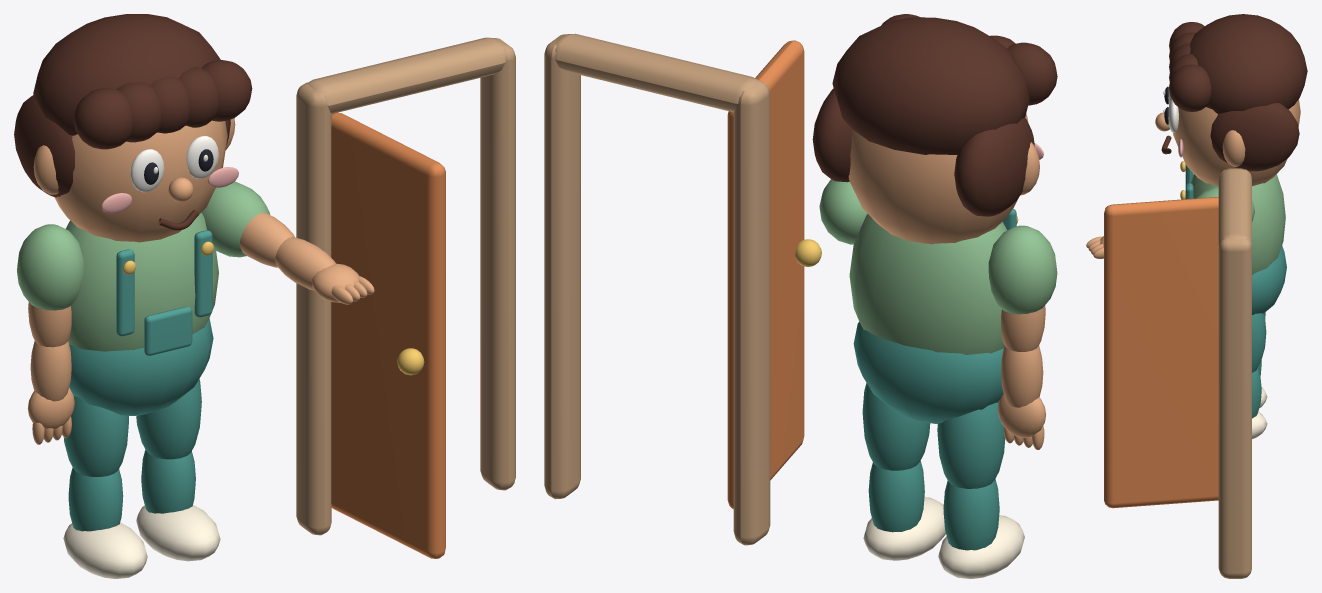
Rendered from daddy-close.glb.
3 views of the same model, side by side, from view 1: azimuth 30°, elevation 25°; view 2: azimuth 150°, elevation 25°; view 3: azimuth 270°, elevation 25° (orthographic). The views are drawn at different scales.
Parts seen in each view (by area): view 1: door, door frame.001, door frame, hair cap, soft shirt, clay head, overalls, door frame.002, shirt sleeve, trouser leg, little shoe.001, little shoe (+22 smaller); view 2: hair cap, door, door frame, door frame.001, soft shirt, clay head, overalls, door frame.002, bob hair, shirt sleeve, trouser leg, trouser leg.001 (+10 smaller); view 3: door, door frame.001, hair cap, bob hair.001, clay head, soft shirt, door frame.002, fringe.004, overalls, trouser leg.001, little ear.001, lower leg.001 (+3 smaller).
Boxes of the visible parts, x1,y1,x2,y2 form: door: (331, 112, 445, 558); door frame.001: (480, 38, 515, 490); door frame: (296, 82, 331, 535); hair cap: (33, 14, 220, 135); soft shirt: (66, 212, 218, 351); clay head: (54, 120, 227, 242); overalls: (69, 318, 213, 415); door frame.002: (306, 37, 505, 113); shirt sleeve: (17, 224, 83, 310); trouser leg: (63, 396, 128, 476); little shoe.001: (136, 505, 220, 561); little shoe: (63, 522, 147, 578); hair cap: (832, 17, 1029, 154); door: (727, 40, 804, 509); door frame: (733, 80, 770, 545); door frame.001: (544, 34, 580, 499); soft shirt: (849, 213, 1006, 354); clay head: (848, 113, 1028, 244); overalls: (853, 321, 1003, 423); door frame.002: (555, 33, 759, 112); bob hair: (954, 118, 1034, 216); shirt sleeve: (988, 225, 1057, 314); trouser leg: (937, 400, 1005, 488); trouser leg.001: (862, 383, 930, 470); door: (1104, 197, 1218, 508); door frame.001: (1218, 239, 1251, 578); hair cap: (1190, 14, 1307, 113); bob hair.001: (1210, 103, 1299, 171); clay head: (1173, 99, 1300, 186); soft shirt: (1191, 174, 1285, 274); door frame.002: (1218, 168, 1251, 245); fringe.004: (1169, 64, 1211, 111); overalls: (1252, 245, 1286, 314); trouser leg.001: (1252, 313, 1266, 372); little ear.001: (1222, 130, 1245, 166); lower leg.001: (1252, 368, 1261, 418).
Size of the model in its own units: 2.07 by 2.22 by 1.06.
